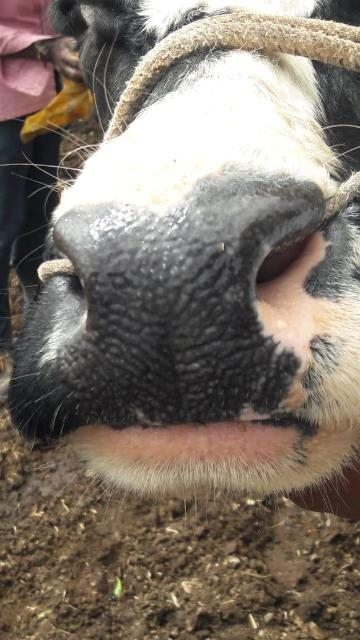Muzzle: (86, 217, 250, 419)
